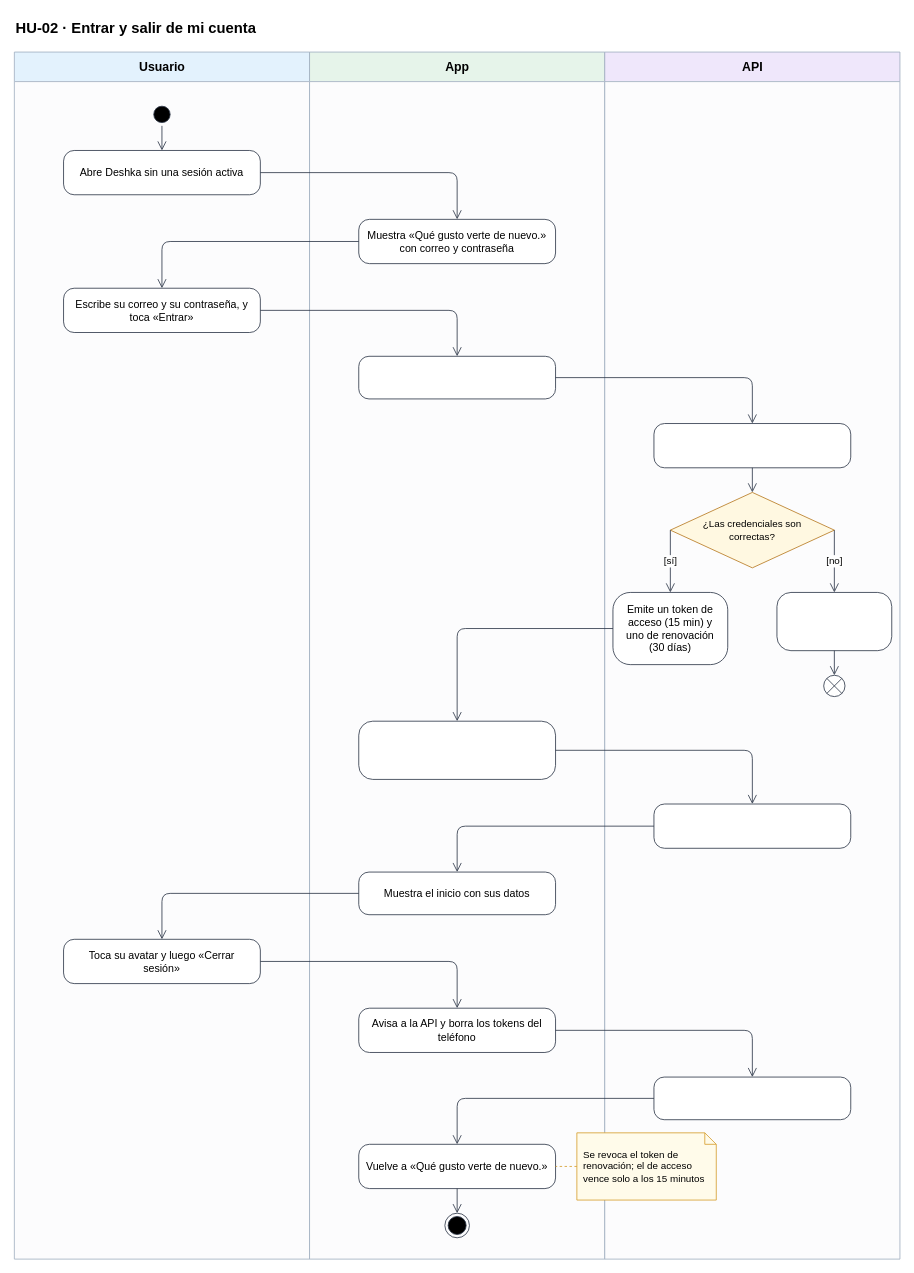
The diagram is 914 pixels wide and 1273 high, and some of its shapes have lost their labels. The centre of each missing label's shape, as x and y in pixels:
"Busca el usuario y compara la contraseña con su hash Argon2" goes at (752,445).
"Envía el correo y la contraseña" goes at (457,377).
"Guarda los tokens de forma segura, abre «Inicio» y pide sus datos" goes at (457,749).
"Identifica a Ana por el token y arma su inicio" goes at (752,825).
"Responde «Correo o contraseña incorrectos»" goes at (834,621).
"Revoca la sesión" goes at (752,1098).
